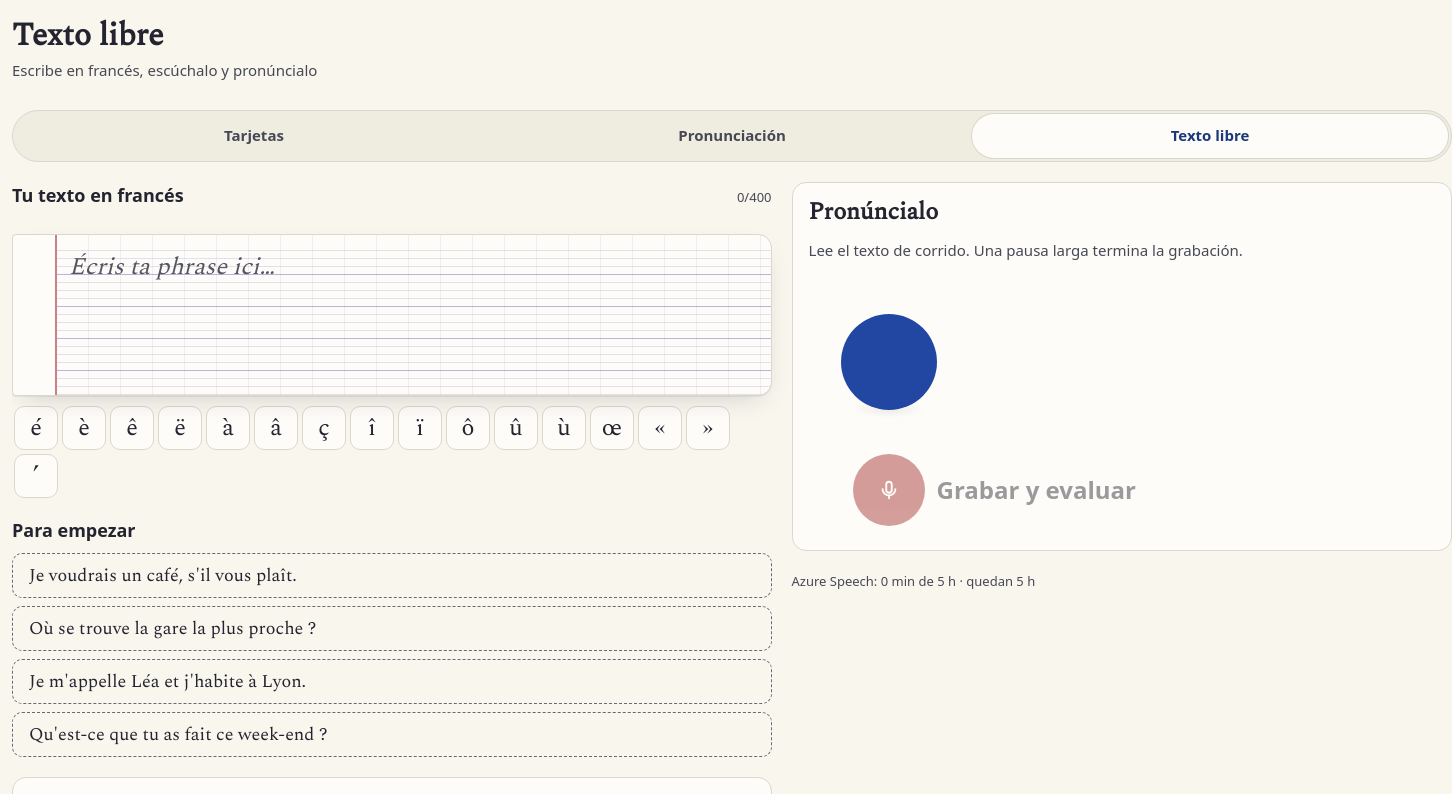
Test: escribir genera el audio solo, con la voz preferida
This screenshot has width=1452, height=794.
In the text box labelled "Tu texto en francés": (412, 315) top-left (69, 251), bottom-right (754, 379), type "Bonjour à tous"
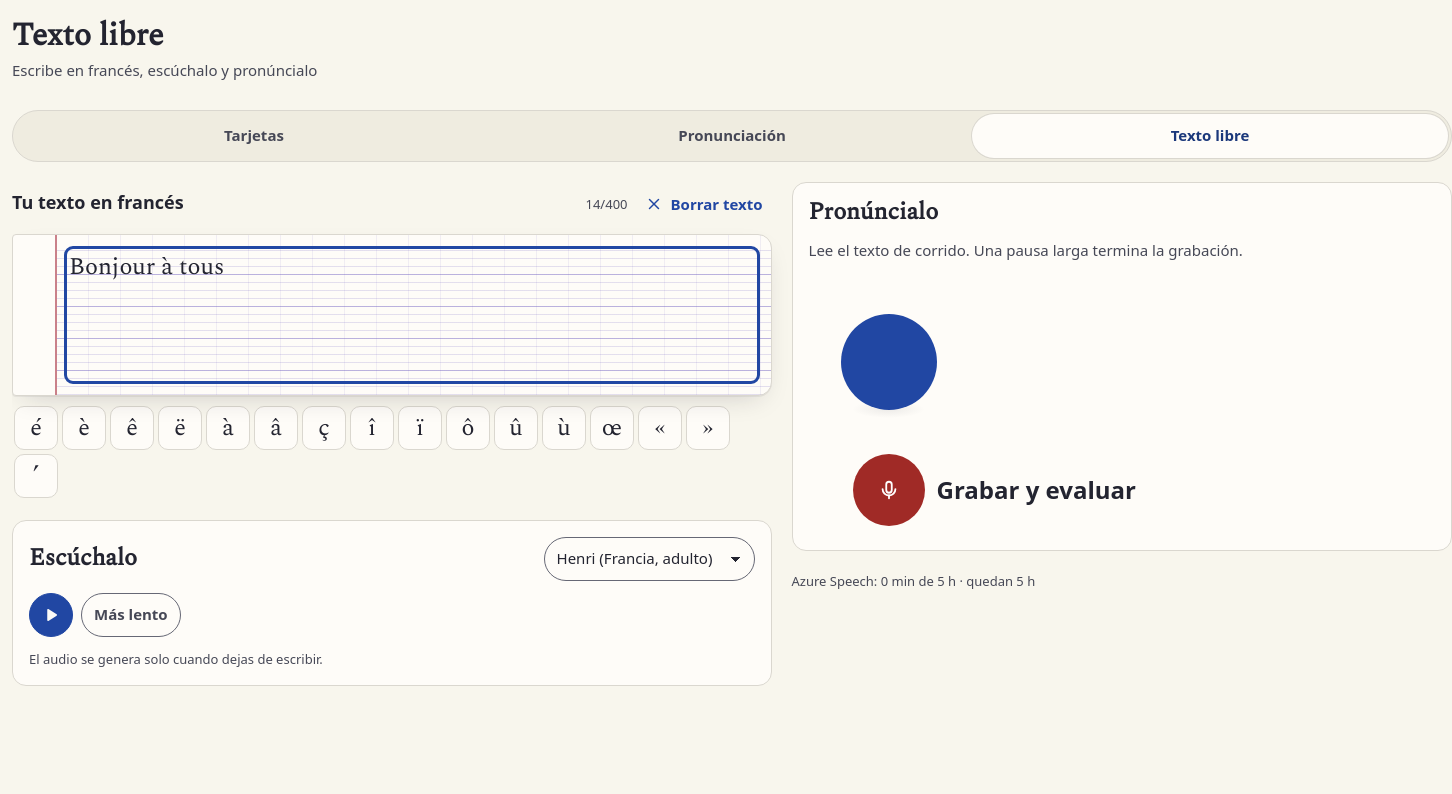
Expected: the button named "Reproducir" is shown, top-left (29, 593), bottom-right (73, 637)
